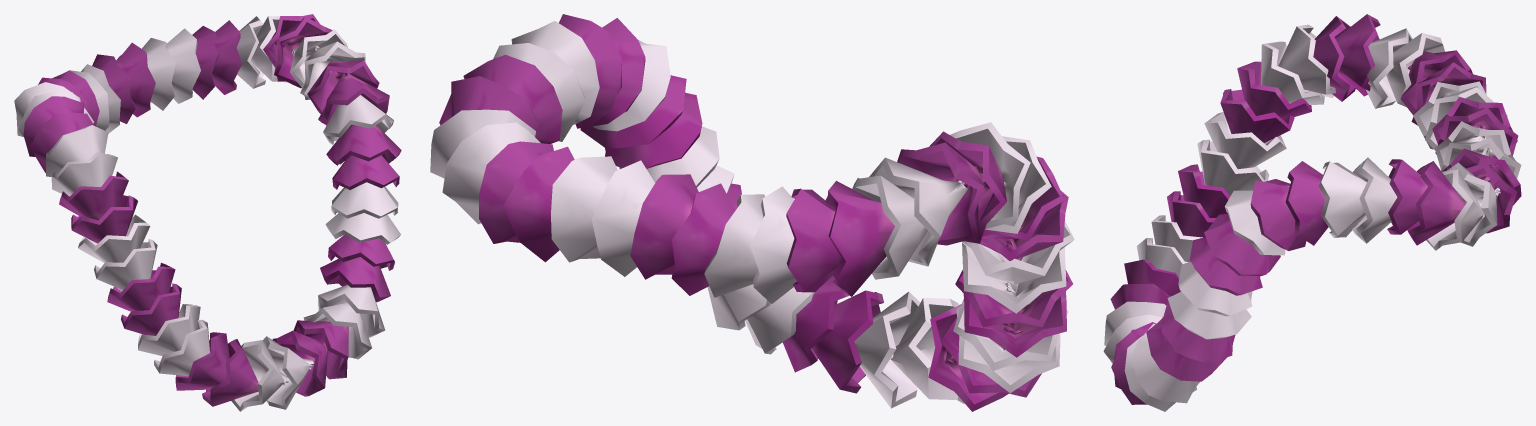
The model's file is flowerleinpc.fbx.
3 views of the same model, side by side, from view 1: azimuth 30°, elevation 25°; view 2: azimuth 150°, elevation 25°; view 3: azimuth 270°, elevation 25° (orthographic). The views are drawn at different scales.
Parts seen in each view (by area): view 1: flowerlei001; view 2: flowerlei001; view 3: flowerlei001.
Boxes of the visible parts, x1,y1,x2,y2 form: flowerlei001: (14, 14, 401, 411); flowerlei001: (430, 14, 1074, 411); flowerlei001: (1103, 14, 1521, 411).
Bounding box in the file's own units: 0.6035 × 0.5787 × 0.4696.
